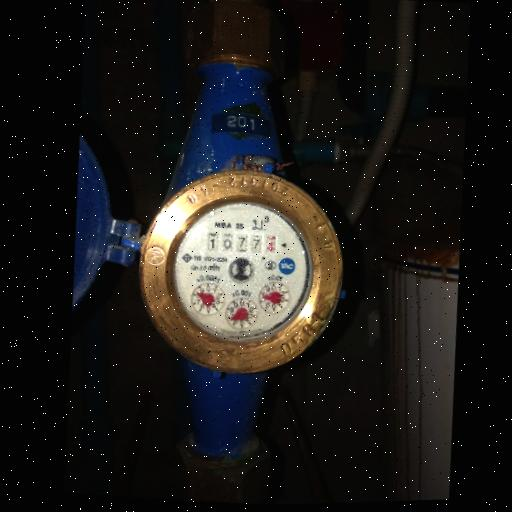0: (221, 232, 234, 252)
1: (207, 231, 218, 251)
4: (265, 235, 278, 255)
7: (236, 233, 249, 253), (250, 234, 263, 254)
border_water_meter_number: (208, 230, 277, 257)
